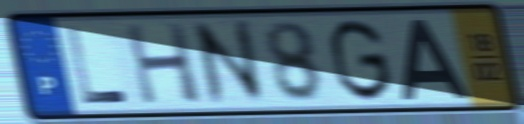8: (262, 20, 325, 104)
A: (399, 17, 473, 102)
G: (327, 16, 396, 105)
H: (122, 21, 206, 107)
L: (63, 25, 133, 107)
N: (187, 16, 271, 110)
